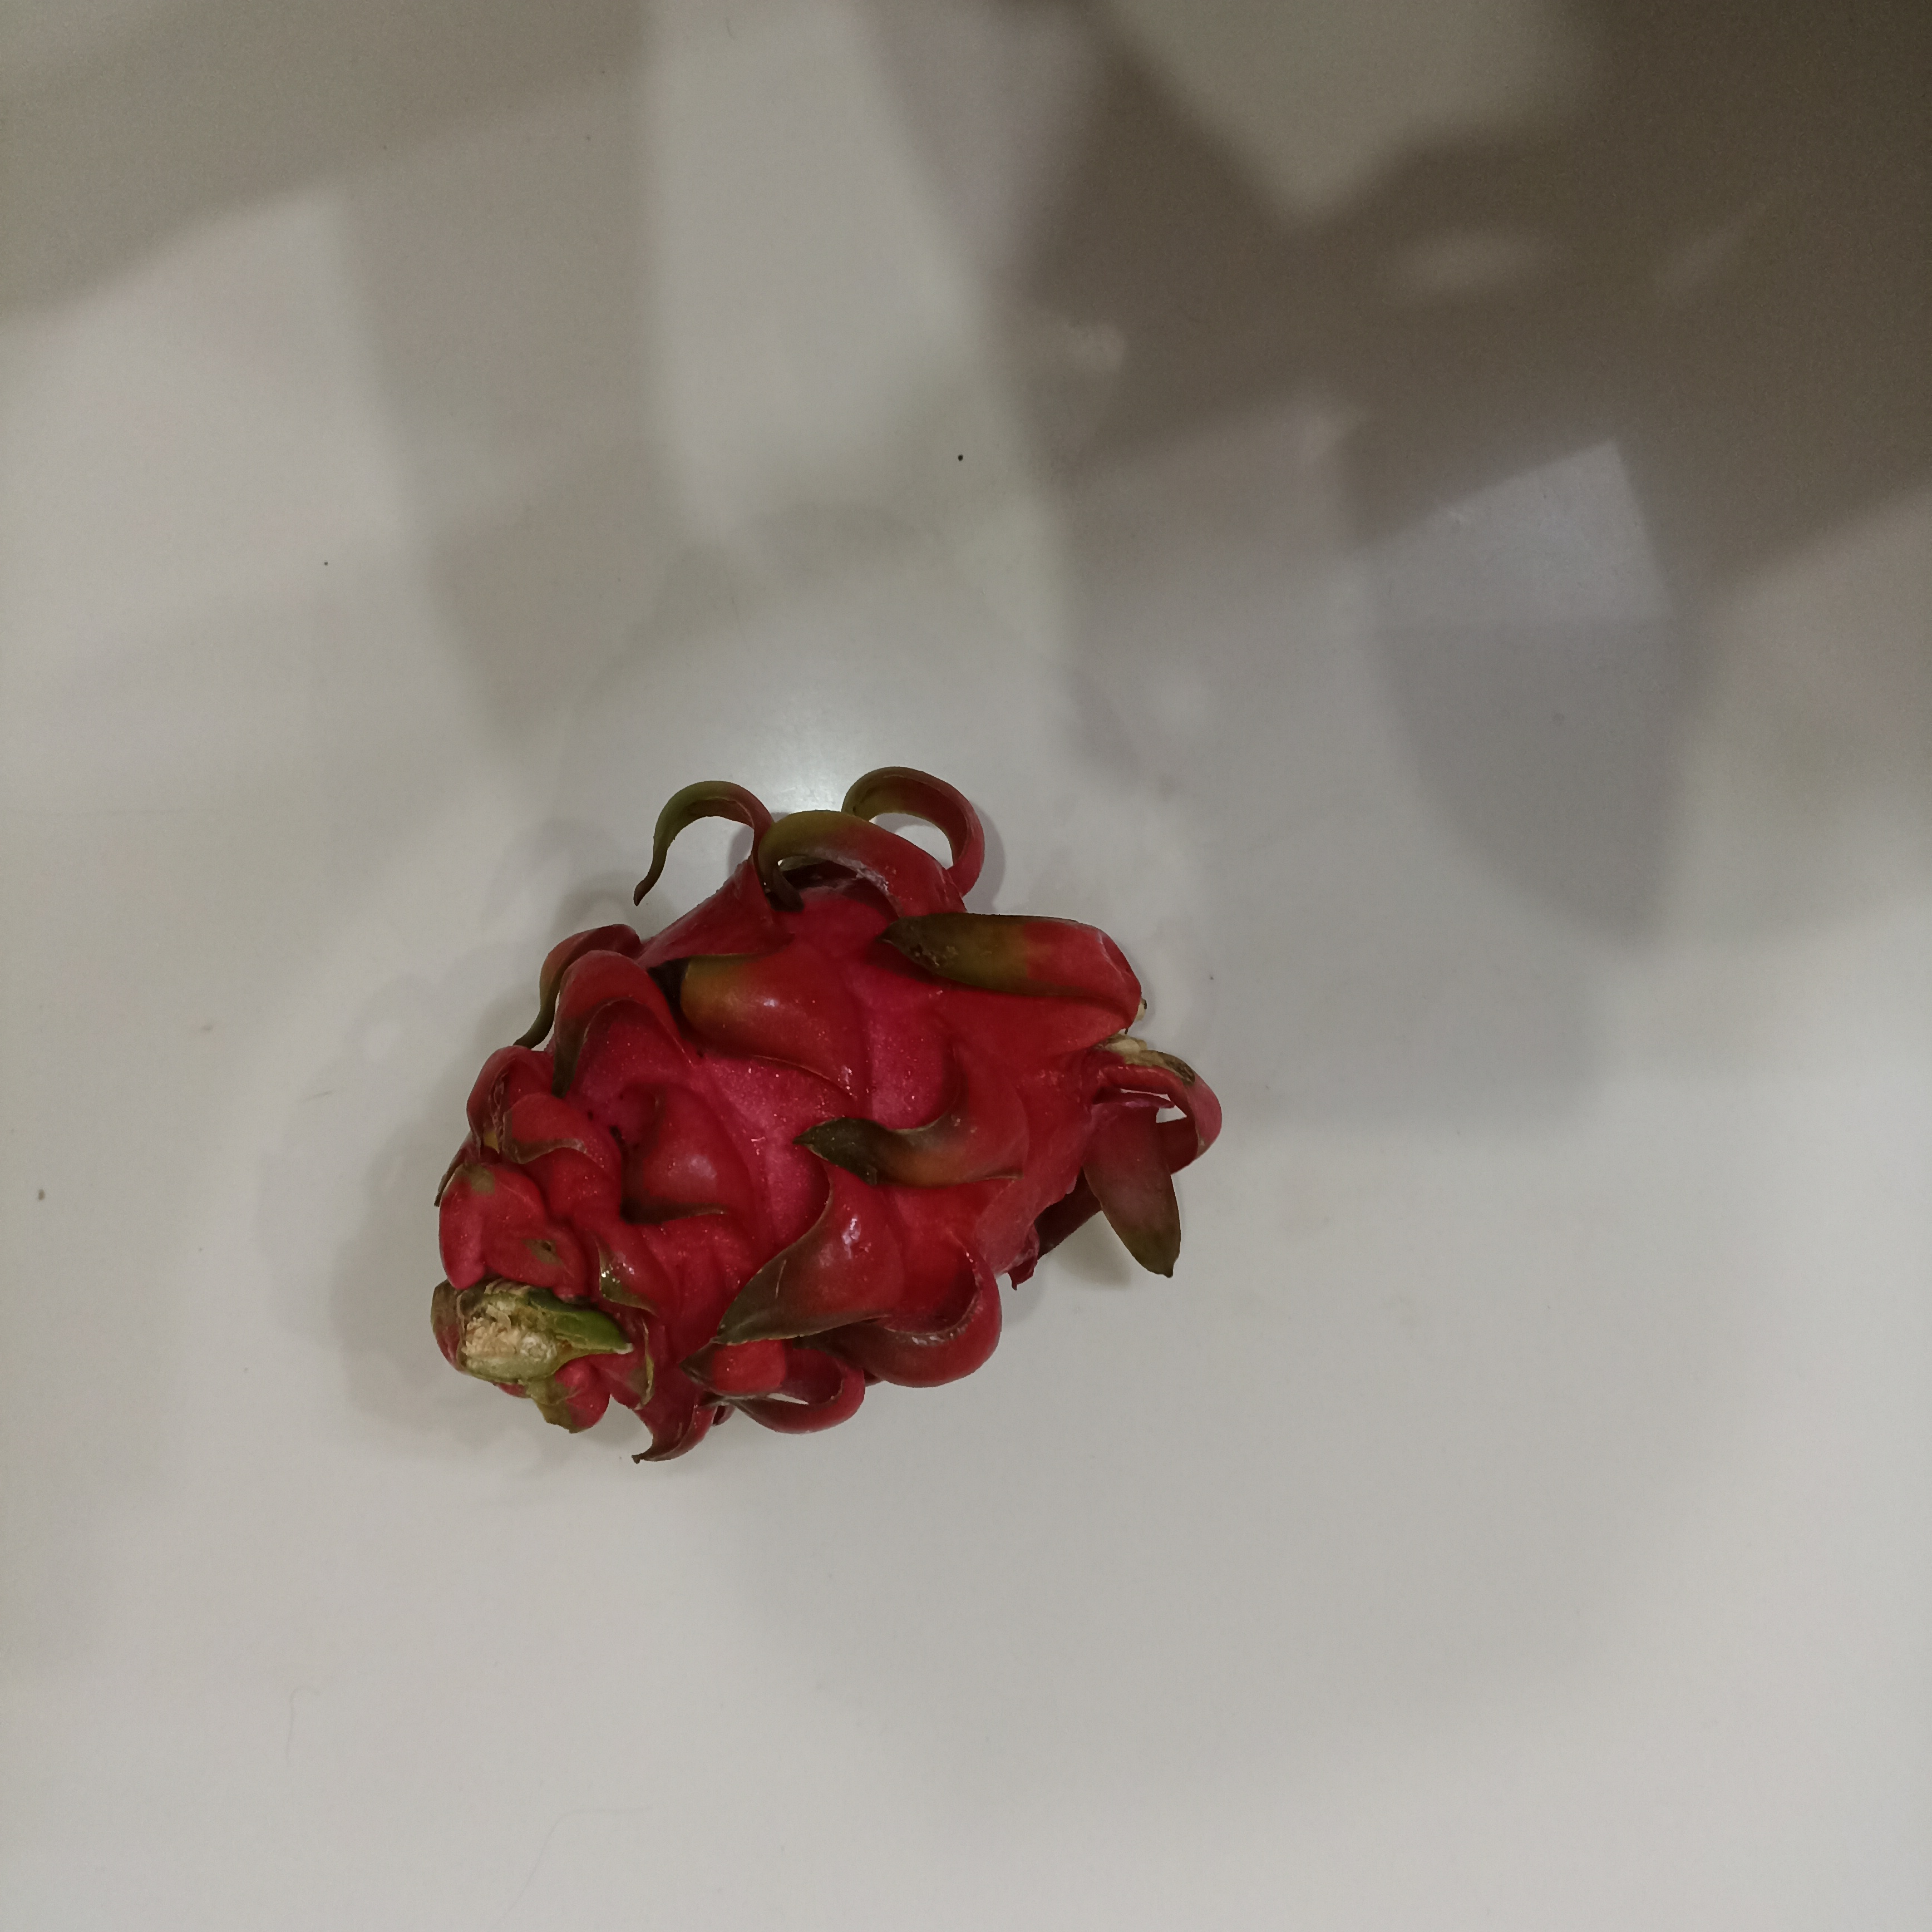Thanh long: (442, 814, 1152, 1428)
